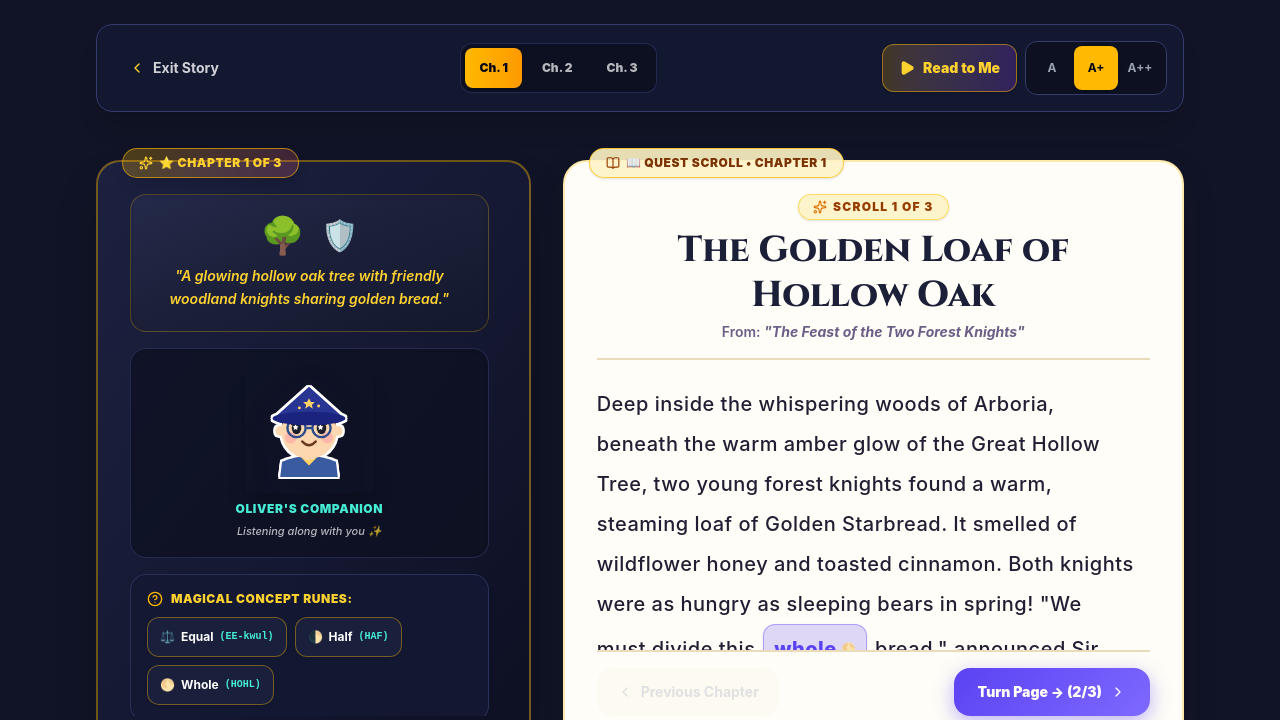
Test: Comprehension Engine › StoryReaderScreen - Chapter Progression & Keyword Inspection › allows opening interactive concept keyword definitions modal
What coordinates should you click on to do the following:
click the button "🌓 Half (HAF)"
I would click on:
 (348, 636)
Its box is [295,616,402,656].
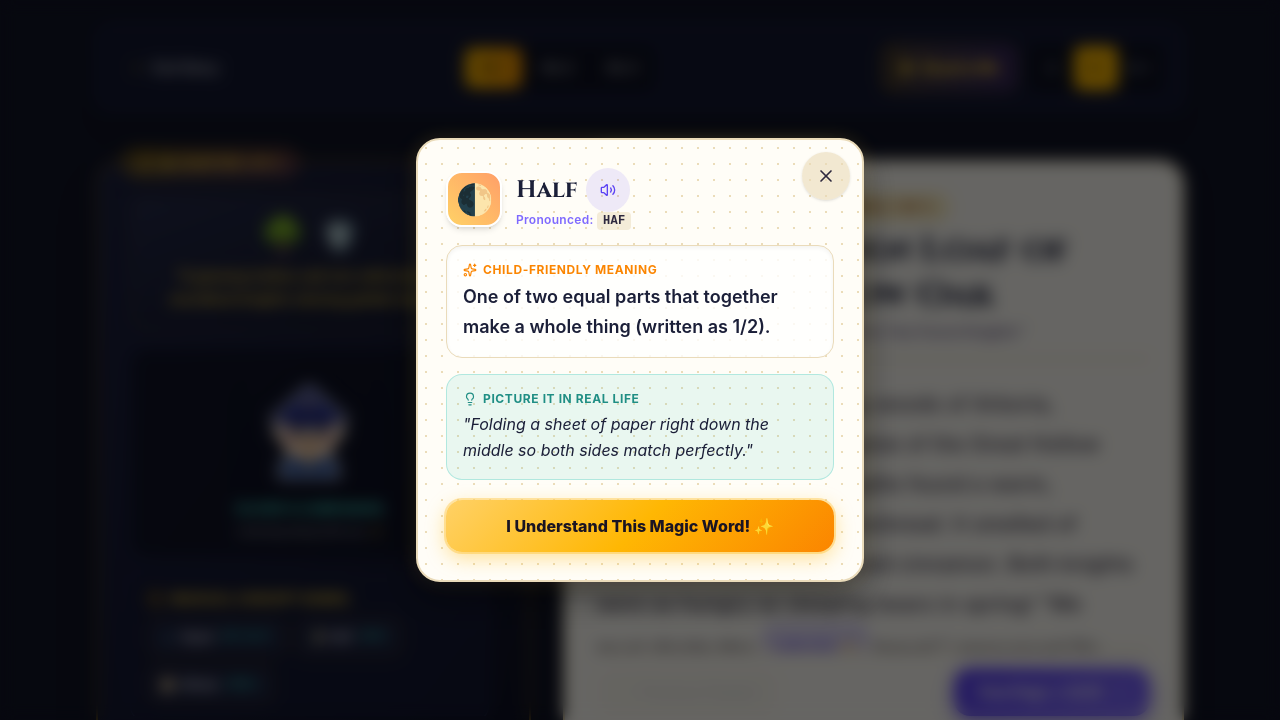
Result: the text "Child-Friendly Meaning" is shown at [483,262,657,278]
